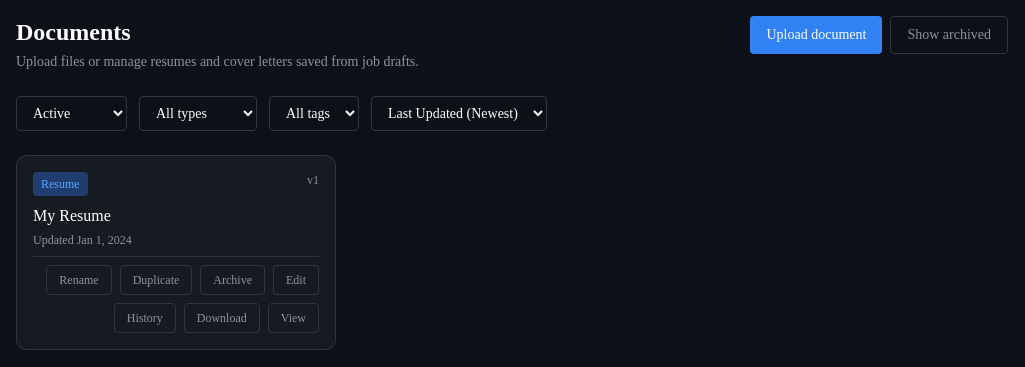
Test: DocumentsPage - S3-008 Document Archive and Restore › fetches and displays archived documents with a Restore button when the toggle is clicked
Expected: the heading "My Resume" is shown, [33, 207, 111, 224]
Click the button with test id "toggle-archived-documents". click: (949, 35)
box: [890, 16, 1008, 54]
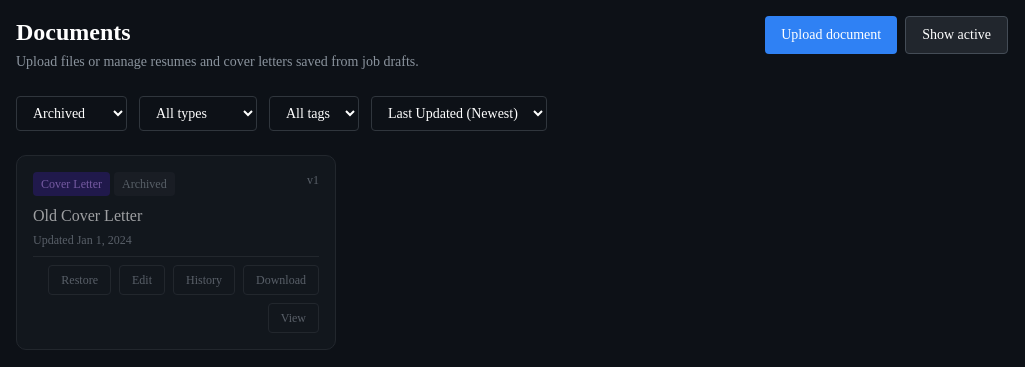
Result: the heading "Old Cover Letter" is shown at [33, 207, 142, 224]
Result: the button with test id "document-restore-button" is shown at [48, 265, 111, 295]
